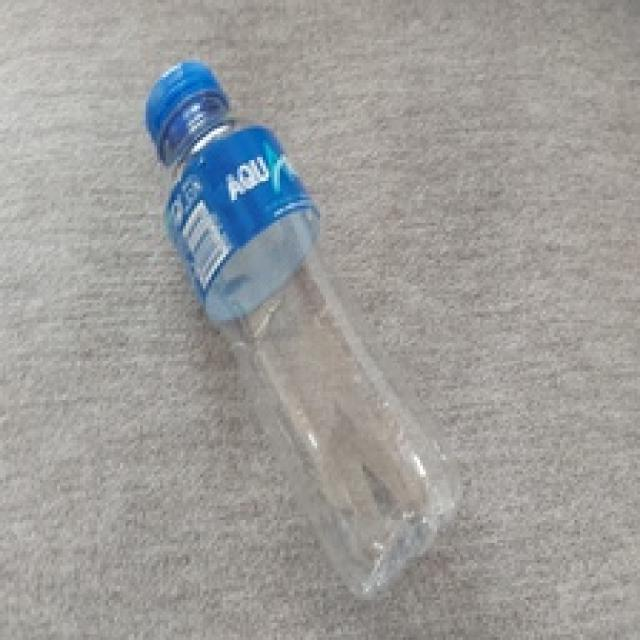Plastic: (140, 56, 462, 594)
